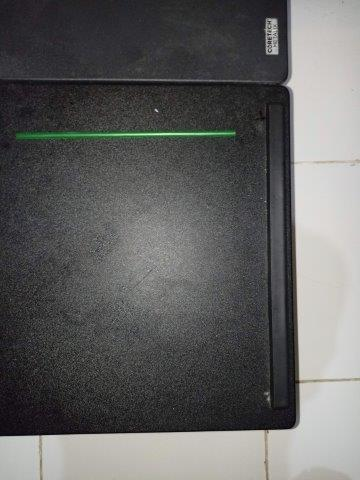sedotan: (15, 131, 236, 140)
